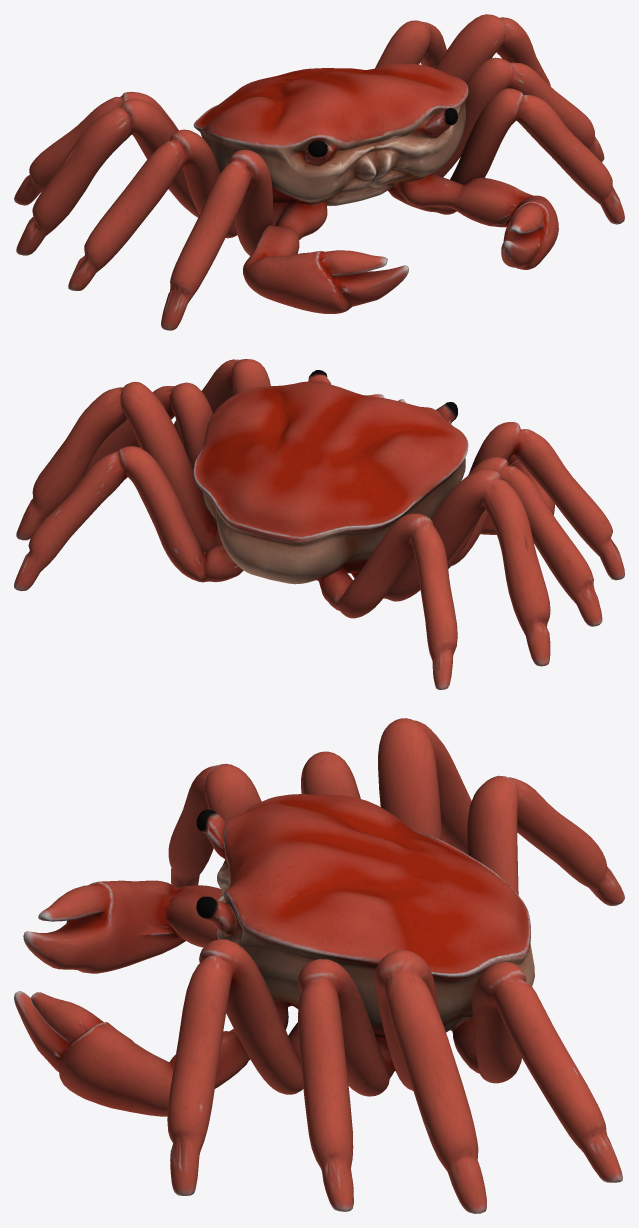
The model's file is MZ4250 - Crab.glb.
3 views of the same model, one above another, from view 1: azimuth 30°, elevation 25°; view 2: azimuth 150°, elevation 25°; view 3: azimuth 270°, elevation 25° (orthographic). The views are drawn at different scales.
Parts seen in each view (by area): view 1: Crab t.001; view 2: Crab t.001; view 3: Crab t.001.
Part boxes in pixels (x1,y1,x2,y2): Crab t.001: [14, 14, 624, 330]; Crab t.001: [14, 359, 624, 689]; Crab t.001: [14, 718, 624, 1213].
Size of the model in its own units: 16.08 by 4.6 by 11.92.
1 material, 1 textured.
